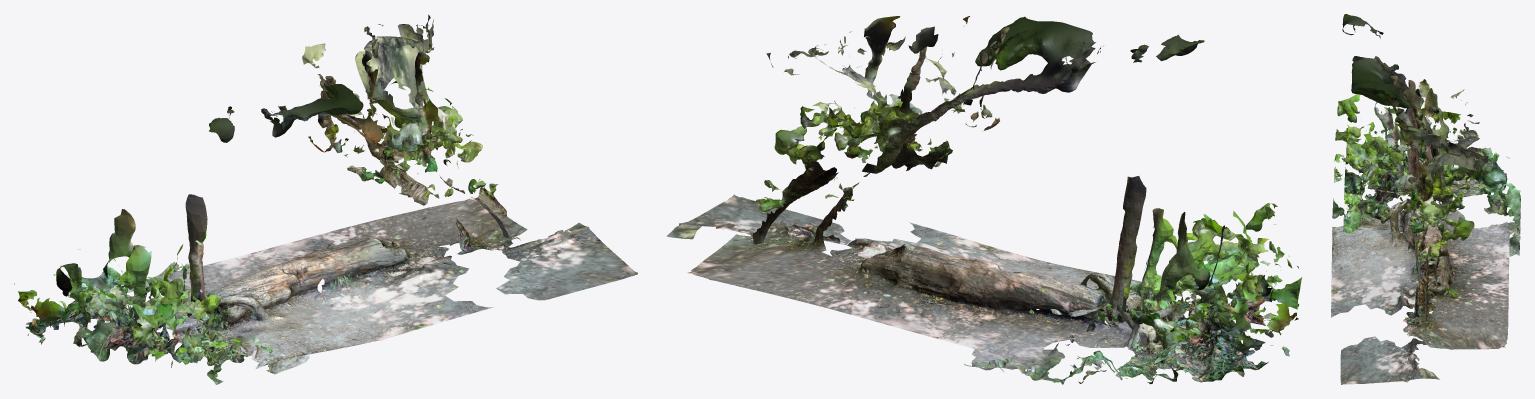
The model's file is tree-trunk.glb.
3 views of the same model, side by side, from view 1: azimuth 30°, elevation 25°; view 2: azimuth 150°, elevation 25°; view 3: azimuth 270°, elevation 25° (orthographic). The views are drawn at different scales.
Parts seen in each view (by area): view 1: Mesh_0, Mesh_1; view 2: Mesh_0, Mesh_1; view 3: Mesh_0, Mesh_1.
Part boxes in pixels (box(x1,y1,x2,y2)): Mesh_0: box(14, 24, 527, 384); Mesh_1: box(65, 14, 637, 374); Mesh_0: box(687, 16, 1301, 382); Mesh_1: box(666, 16, 1259, 384); Mesh_0: box(1331, 14, 1510, 349); Mesh_1: box(1340, 56, 1520, 384).
Size of the model in its own units: 7.24 by 3.22 by 2.61.
Materials: 2 (2 with a texture image).
